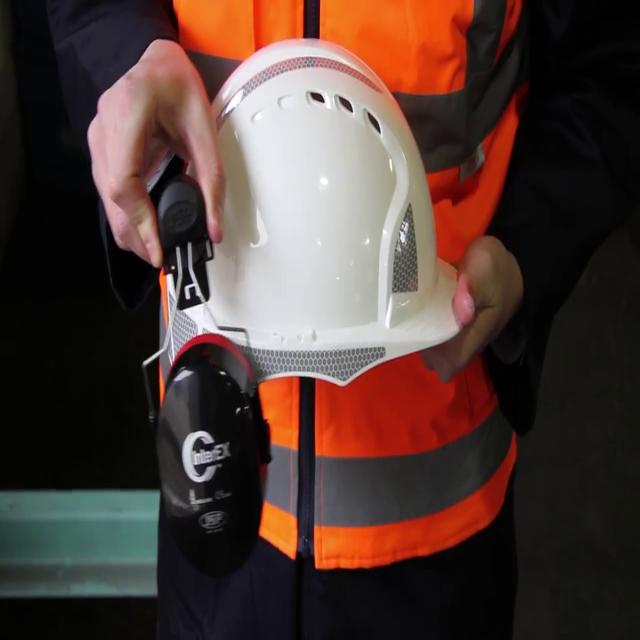earmuff: (148, 322, 274, 588)
helmet: (157, 26, 478, 396)
